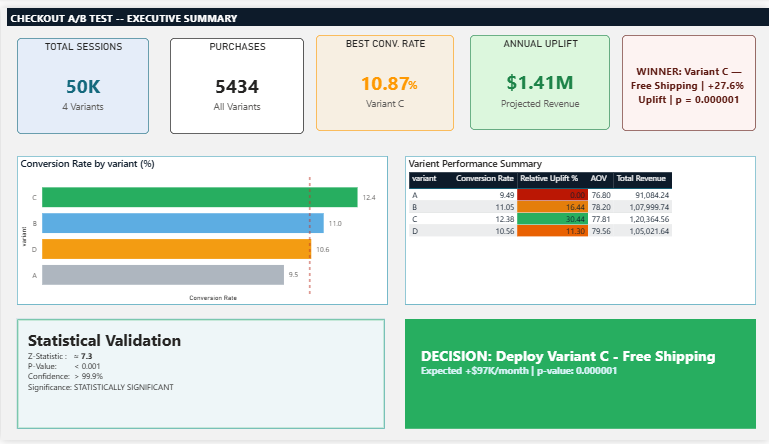

The dashboard page shown, as its layout file describes it:
{"tool":"powerbi","page":{"name":"Executive Summary","canvas":[1280,720],"ordinal":0},"visuals":[{"type":"shape","box":[10,0,1270,30],"z":0},{"type":"card","title":"TOTAL SESSIONS","fields":{"Values":["Measures (2).Total Sessions"]},"box":[26.7,50,220,160],"z":1000},{"type":"card","title":"PURCHASES","fields":{"Values":["Measures (2).Total Purchases"]},"box":[281.7,50,223.3,160],"z":2000},{"type":"card","title":"BEST CONV. RATE","fields":{"Values":["Measures (2).Conversion Rate"]},"box":[525,45,230,160],"z":3000},{"type":"card","fields":{"Values":["Measures (2).Winner Variant"]},"box":[1035,45,223.3,160],"z":4000},{"type":"clusteredBarChart","title":"Conversion Rate by variant (%)","fields":{"Category":["checkout_ab_test_data.variant"],"Y":["Measures (2).Conversion Rate"]},"box":[26.7,246.7,618.3,248.3],"z":5000},{"type":"tableEx","title":"Varient Performance Summary","fields":{"Values":["checkout_ab_test_data.variant","Measures (2).Conversion Rate","Measures (2).Relative Uplift %","Measures (2).AOV","Measures (2).Total Revenue"]},"box":[673.3,246.7,585,248.3],"z":6000},{"type":"shape","box":[673.3,518.3,585,183.3],"z":7000},{"type":"textbox","box":[695,556.7,518.3,115],"z":8000},{"type":"shape","box":[26.7,518.3,613.3,183.3],"z":9000},{"type":"textbox","box":[40,530,526.7,160],"z":10000},{"type":"textbox","box":[673.3,110,35,35],"z":11000},{"type":"card","title":"ANNUAL UPLIFT","fields":{"Values":["Measures (2).Annual Revenue Uplift"]},"box":[781.7,45,233.3,158.3],"z":12000}]}

Visuals, with their boxes in screenshot pixels (x1, y1, x2, y2), scaled from the page's 1280x720 canvas onto the 769x444 screenshot:
shape: <region>6, 0, 768, 18</region>
"TOTAL SESSIONS" card: <region>16, 31, 148, 130</region>
"PURCHASES" card: <region>169, 31, 303, 130</region>
"BEST CONV. RATE" card: <region>315, 28, 454, 126</region>
card - Measures (2).Winner Variant: <region>622, 28, 756, 126</region>
"Conversion Rate by variant (%)" clusteredBarChart: <region>16, 152, 388, 305</region>
"Varient Performance Summary" tableEx: <region>405, 152, 756, 305</region>
shape: <region>405, 320, 756, 433</region>
textbox: <region>418, 343, 729, 414</region>
shape: <region>16, 320, 384, 433</region>
textbox: <region>24, 327, 340, 426</region>
textbox: <region>405, 68, 426, 89</region>
"ANNUAL UPLIFT" card: <region>470, 28, 610, 125</region>
